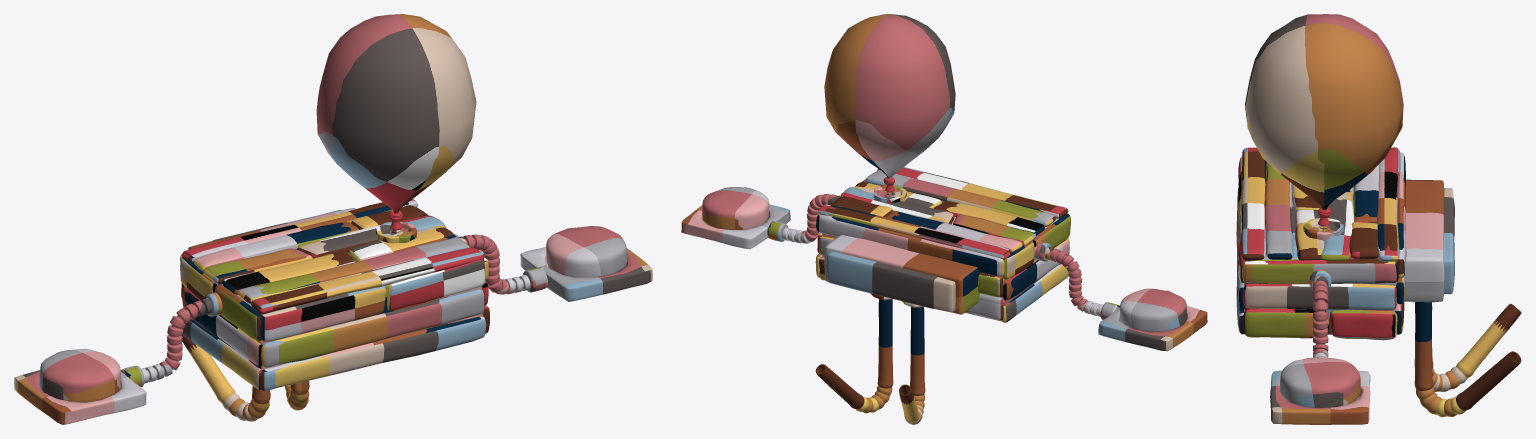
File: Motor_Old.fbx
The picture shows the model from 3 angles, left to right: view 1: azimuth 30°, elevation 25°; view 2: azimuth 150°, elevation 25°; view 3: azimuth 270°, elevation 25°; orthographic projection. The views are drawn at different scales.
Parts seen in each view (by area): view 1: MotorBox, Balloon, PumpButton.001, PumpButton, BasePumpButton.001, BasePumpButton, StrawRed, PumpCord.001, PumpCord, BaloonBase, BoxToStraw; view 2: MotorBox, Balloon, BoxToStraw, StrawBlue, PumpButton, PumpButton.001, BasePumpButton.001, StrawRed, BasePumpButton, PumpCord.001, PumpCord; view 3: MotorBox, Balloon, BoxToStraw, StrawBlue, PumpButton, BasePumpButton, StrawRed, PumpCord, BaloonBase.
Boxes of the visible parts, box(x1,y1,x2,y2) form: MotorBox: box(180, 199, 489, 390); Balloon: box(316, 14, 476, 230); PumpButton.001: box(39, 348, 120, 402); PumpButton: box(546, 226, 627, 277); BasePumpButton.001: box(14, 370, 146, 424); BasePumpButton: box(520, 247, 652, 301); StrawRed: box(182, 335, 270, 421); PumpCord.001: box(141, 298, 212, 383); PumpCord: box(459, 234, 530, 294); BaloonBase: box(376, 222, 416, 243); BoxToStraw: box(188, 208, 355, 249); MotorBox: box(815, 167, 1070, 322); Balloon: box(824, 14, 955, 191); BoxToStraw: box(824, 235, 980, 314); StrawBlue: box(815, 299, 893, 413); PumpButton: box(702, 187, 769, 229); PumpButton.001: box(1119, 288, 1186, 332); BasePumpButton.001: box(1098, 306, 1207, 351); StrawRed: box(899, 307, 925, 424); BasePumpButton: box(681, 204, 790, 249); PumpCord.001: box(1044, 246, 1102, 316); PumpCord: box(781, 194, 839, 243); MotorBox: box(1236, 147, 1406, 340); Balloon: box(1245, 14, 1403, 225); BoxToStraw: box(1404, 179, 1454, 302); StrawBlue: box(1414, 302, 1521, 417); PumpButton: box(1279, 357, 1360, 407); BasePumpButton: box(1270, 370, 1370, 424); StrawRed: box(1414, 302, 1521, 391); PumpCord: box(1313, 276, 1328, 357); BaloonBase: box(1303, 218, 1344, 240).
Size of the model in its own units: 756 by 514 by 319.
